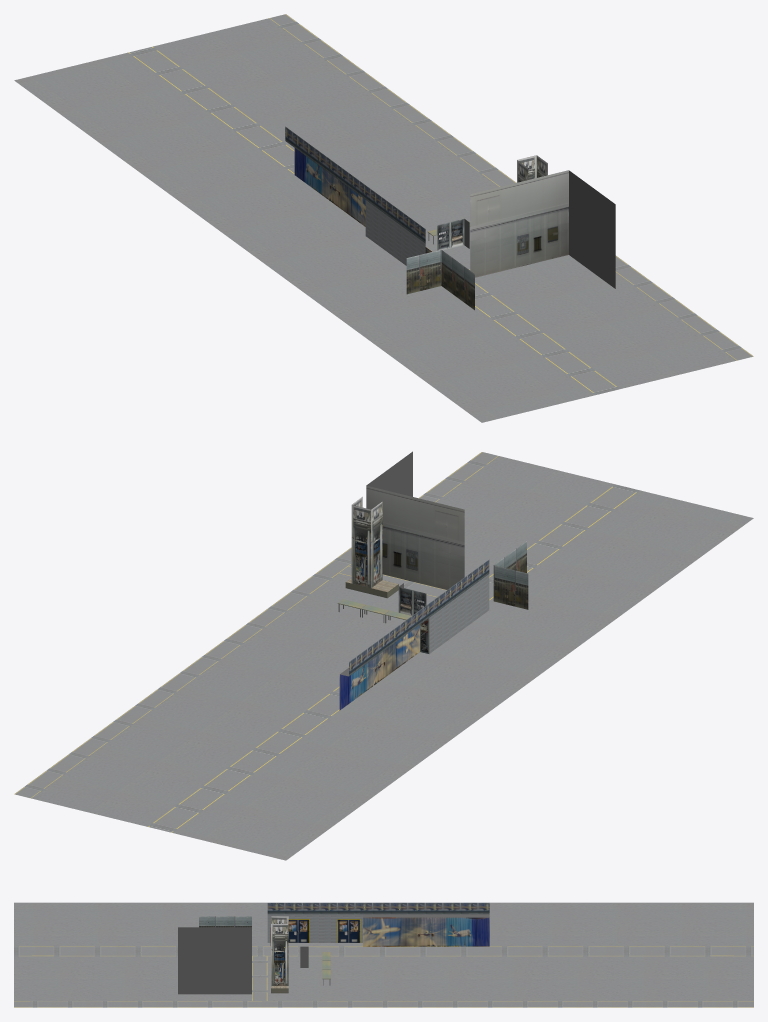
The model's file is cyberzoo_surroundings.dae.
3 renders of one model, top to bottom at view 1: azimuth 30°, elevation 25°; view 2: azimuth 150°, elevation 25°; view 3: azimuth 270°, elevation 25°, orthographic. The views are drawn at different scales.
Visible parts, largest first — view 1: instance_9 (×4), instance_6 (×2), instance_0 (×3), instance_4, instance_1; view 2: instance_9 (×4), instance_6 (×2), instance_0 (×3), instance_8, instance_4; view 3: instance_9 (×4), instance_0 (×4), instance_6, instance_8, instance_4, instance_11, instance_10.
Boxes of the visible parts, x1=… form: instance_9 (×4): x1=14, y1=14, x2=753, y2=422; instance_6 (×2): x1=470, y1=170, x2=615, y2=288; instance_0 (×3): x1=285, y1=126, x2=425, y2=265; instance_4: x1=406, y1=249, x2=474, y2=310; instance_1: x1=436, y1=219, x2=464, y2=250; instance_9 (×4): x1=14, y1=452, x2=753, y2=860; instance_6 (×2): x1=366, y1=451, x2=464, y2=589; instance_0 (×3): x1=339, y1=559, x2=489, y2=710; instance_8: x1=351, y1=496, x2=382, y2=588; instance_4: x1=493, y1=541, x2=528, y2=609; instance_9 (×4): x1=14, y1=902, x2=753, y2=1007; instance_0 (×4): x1=267, y1=902, x2=489, y2=946; instance_6: x1=178, y1=927, x2=251, y2=994; instance_8: x1=271, y1=916, x2=288, y2=985; instance_4: x1=199, y1=916, x2=251, y2=927; instance_11: x1=337, y1=919, x2=360, y2=942; instance_10: x1=288, y1=919, x2=309, y2=942.
Bounding box in the file's own units: 925 × 2756 × 276.
16 materials, 15 textured.
